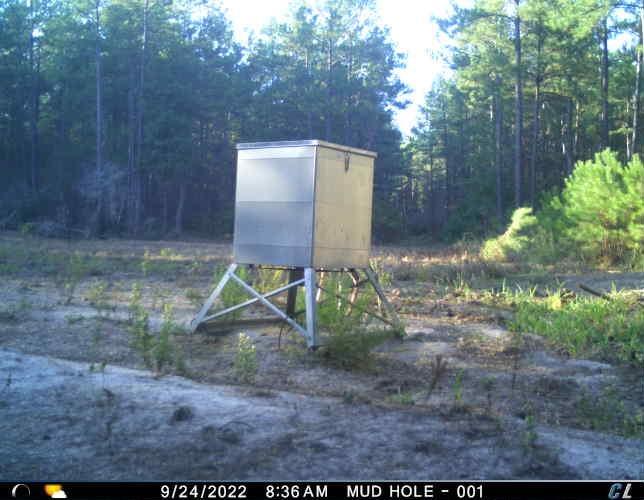Deer: (316, 267, 365, 319)
